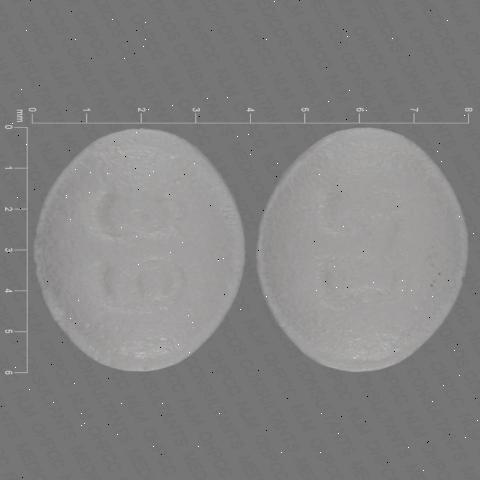Pill: (28, 110, 258, 394), (248, 106, 477, 389)
